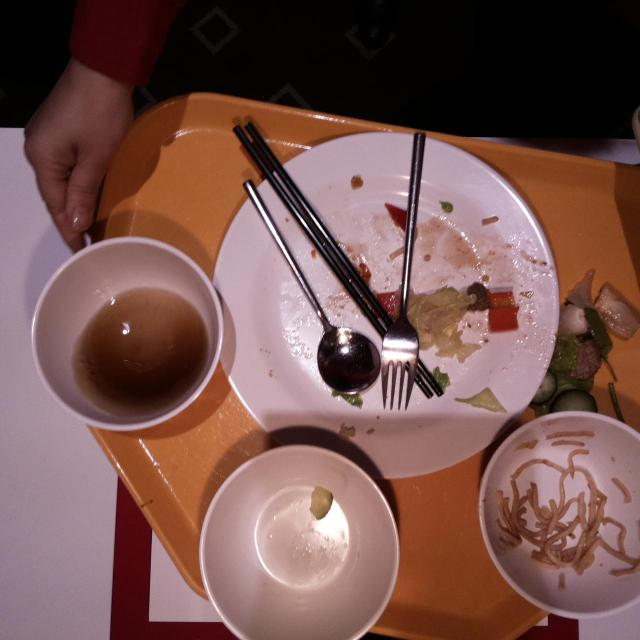Noodle: (497, 480, 637, 576)
Vegetable: (526, 336, 598, 420), (406, 285, 474, 363), (309, 483, 335, 519)
